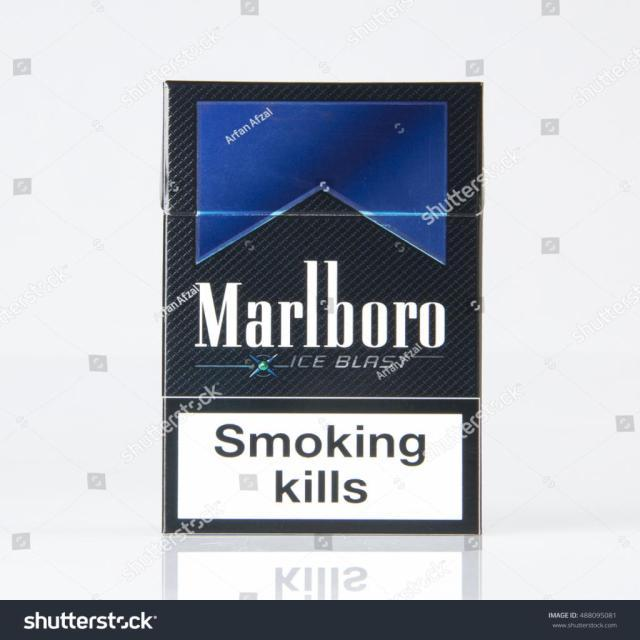smoking: (159, 80, 484, 604)
